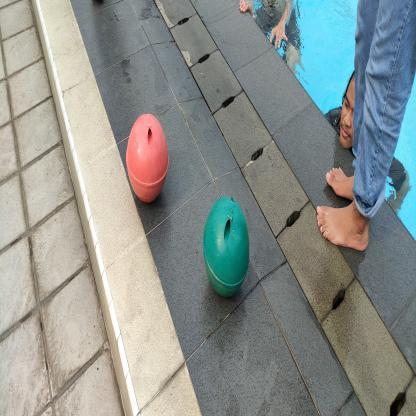green_buoy: (202, 192, 252, 303)
red_buoy: (124, 110, 171, 207)
